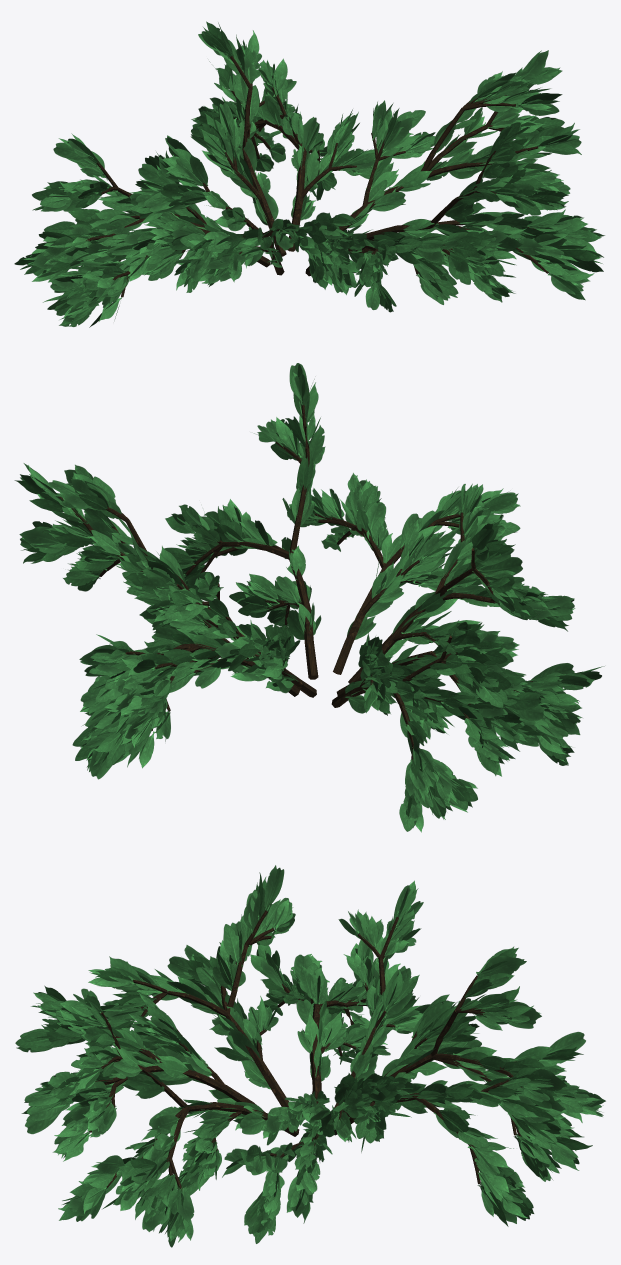
The model's file is salal_understory_v01.glb.
The picture shows the model from 3 angles, top to bottom: view 1: azimuth 30°, elevation 25°; view 2: azimuth 150°, elevation 25°; view 3: azimuth 270°, elevation 25°; orthographic projection. The views are drawn at different scales.
Visible parts, largest first — view 1: salal_understory_v01; view 2: salal_understory_v01; view 3: salal_understory_v01.
Part boxes in pixels (<box>): salal_understory_v01: <box>14,21,604,327</box>; salal_understory_v01: <box>14,363,604,832</box>; salal_understory_v01: <box>15,865,605,1247</box>.
Bounding box in the file's own units: 1.78 × 0.7549 × 1.61.
2 materials, 2 textured.
